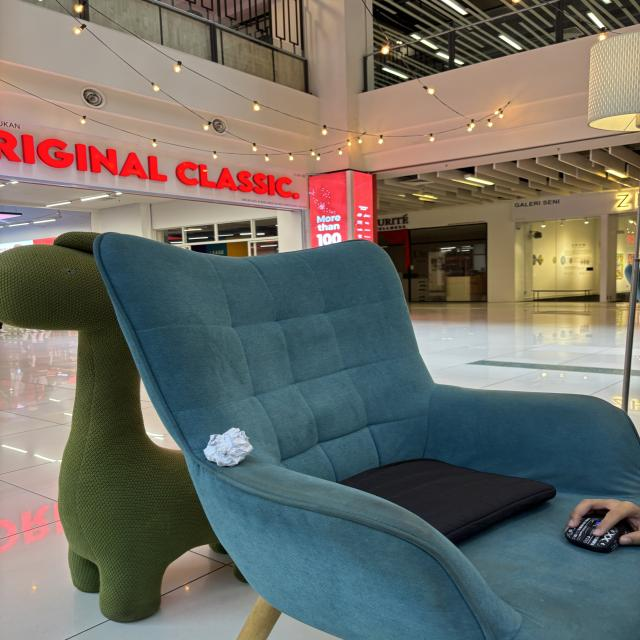crumpled_paper: (203, 425, 255, 469)
